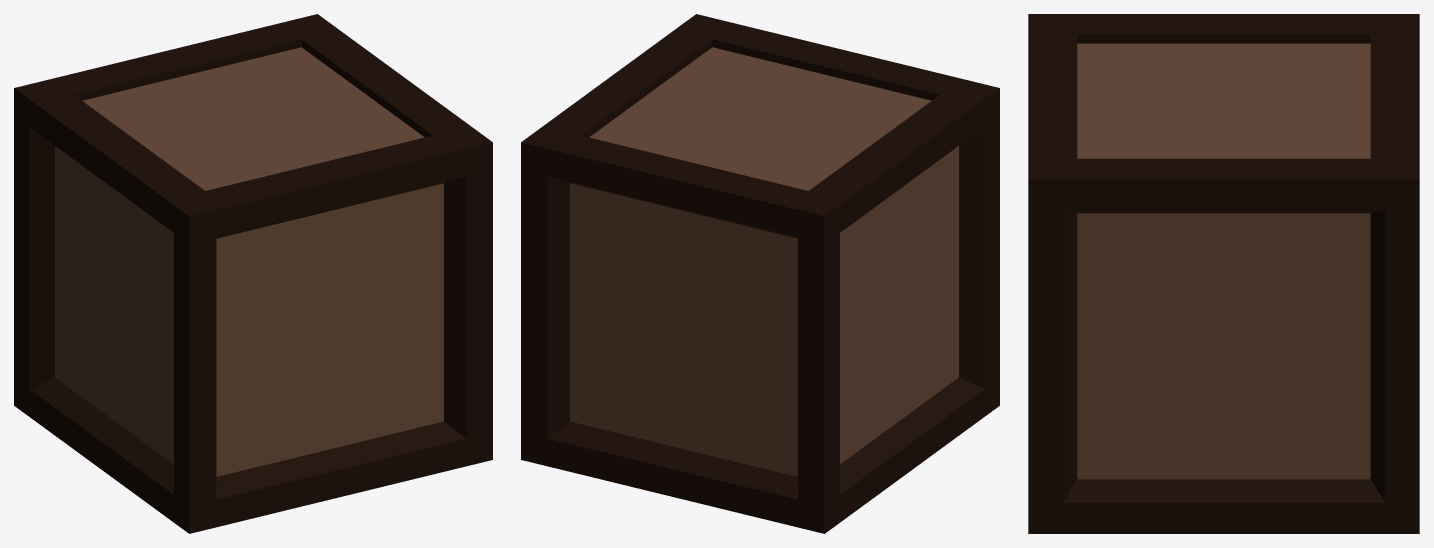
The model's file is Crate 001.FBX.
The picture shows the model from 3 angles, left to right: view 1: azimuth 30°, elevation 25°; view 2: azimuth 150°, elevation 25°; view 3: azimuth 270°, elevation 25°; orthographic projection. The views are drawn at different scales.
Parts seen in each view (by area): view 1: Crate 001; view 2: Crate 001; view 3: Crate 001.
Part boxes in pixels (x1=…): Crate 001: x1=14, y1=14, x2=492, y2=533; Crate 001: x1=521, y1=14, x2=999, y2=533; Crate 001: x1=1028, y1=14, x2=1419, y2=533.
Size of the model in its own units: 0.8 by 0.8 by 0.8.
